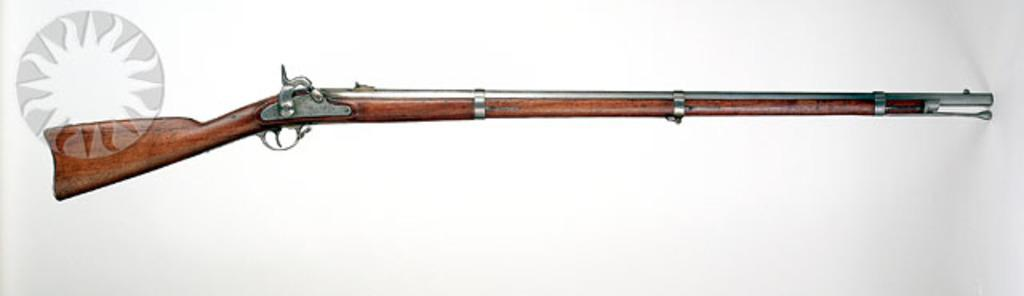Shotgun: (0, 53, 933, 216)
